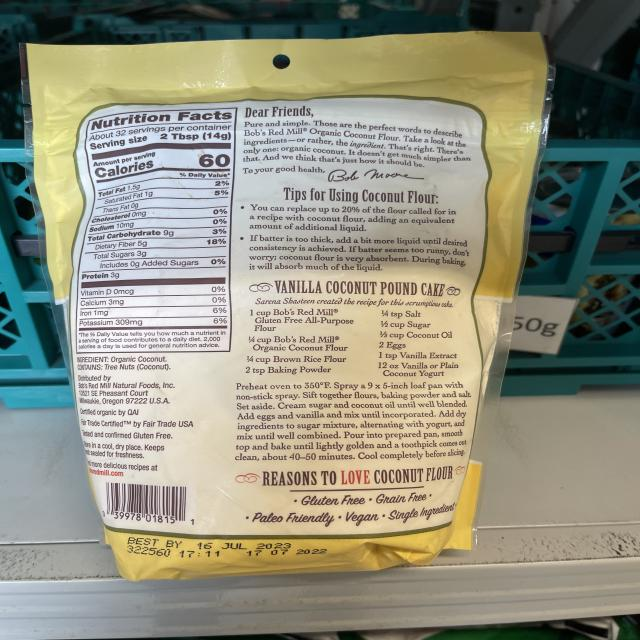object_name: (47, 47, 481, 562)
